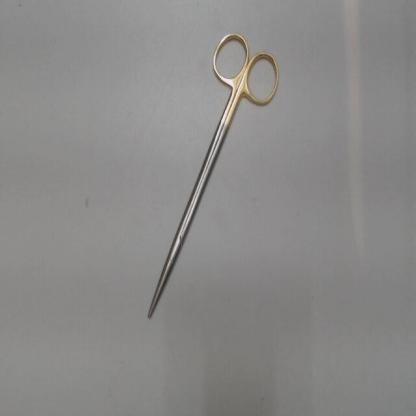7 Metzenbaum Scissors: (149, 28, 282, 320)
